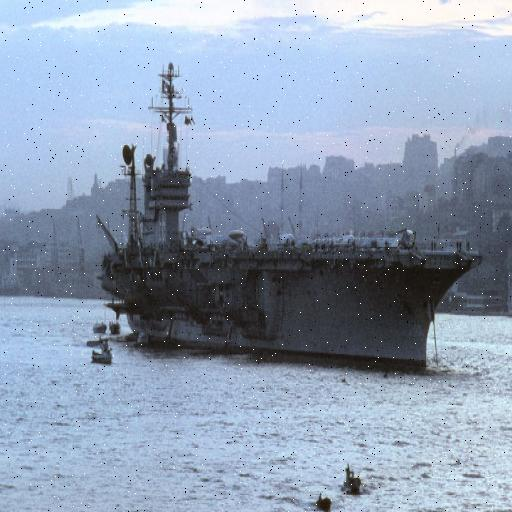Portanaves: (97, 48, 487, 377)
